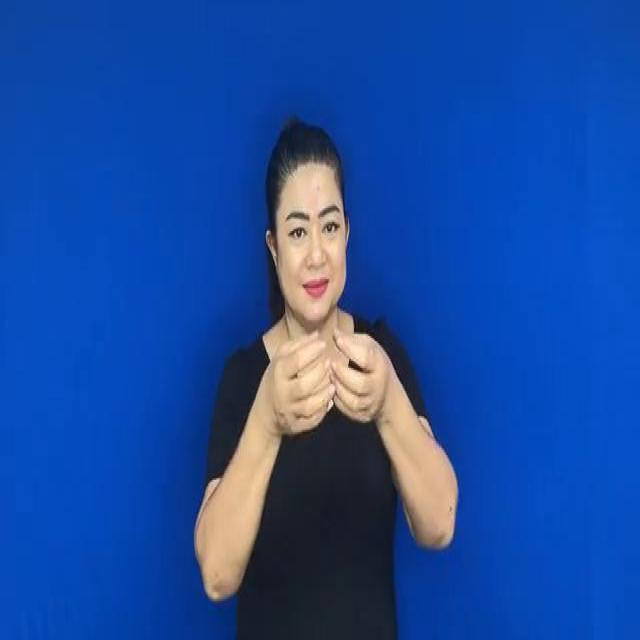egg: (241, 297, 404, 448)
